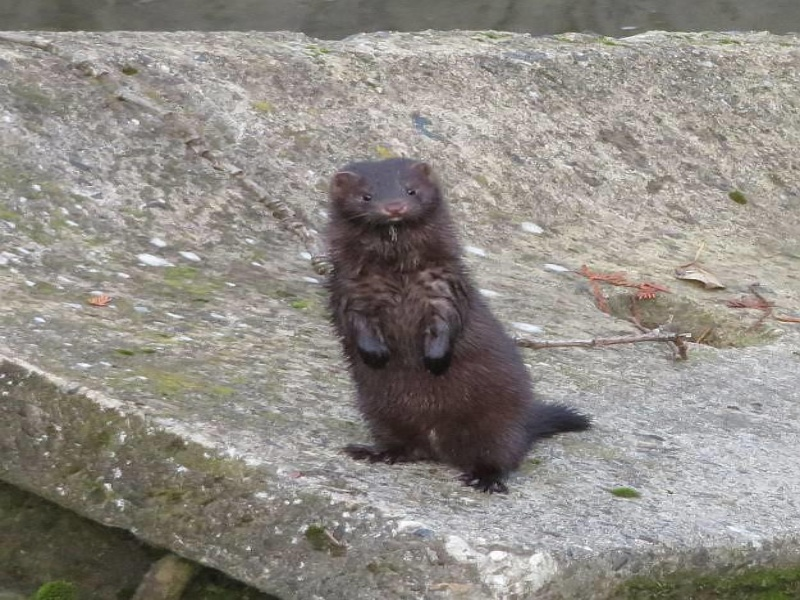minkish: (321, 155, 591, 494)
